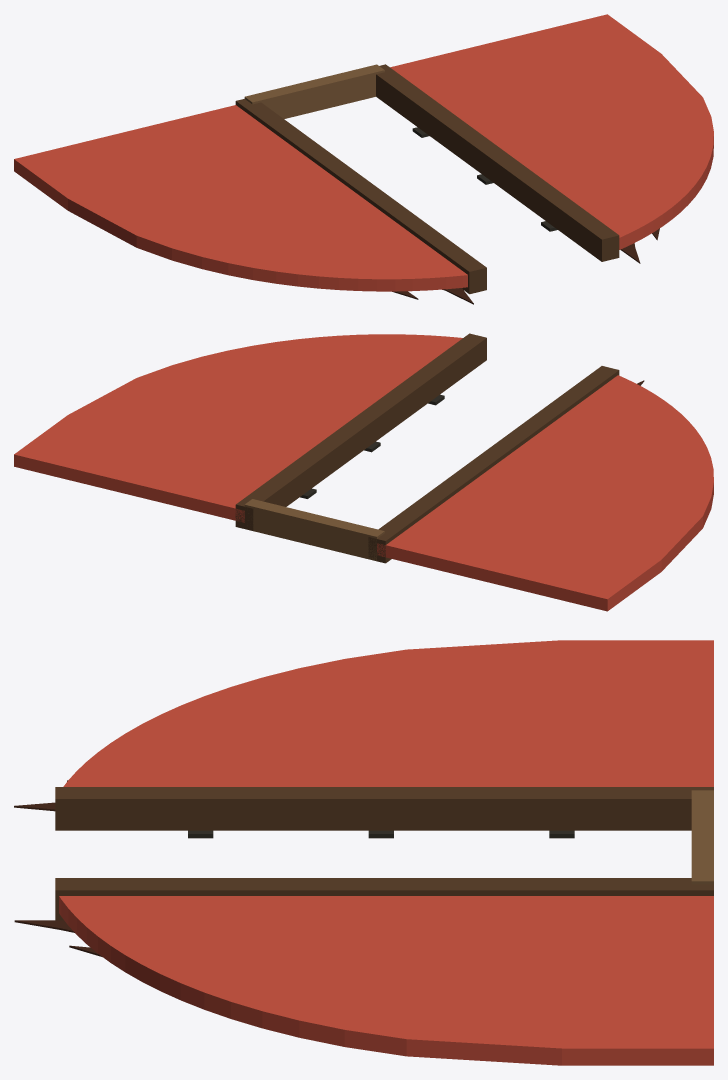
The model's file is sunrise_tavern_sun_doors_only_cm.obj.
3 renders of one model, top to bottom at view 1: azimuth 30°, elevation 25°; view 2: azimuth 150°, elevation 25°; view 3: azimuth 270°, elevation 25°, orthographic. The views are drawn at different scales.
Visible parts, largest first — view 1: Sunrise_Tavern_Sun_Saloon_Doors; view 2: Sunrise_Tavern_Sun_Saloon_Doors; view 3: Sunrise_Tavern_Sun_Saloon_Doors.
Part boxes in pixels (left/top/right/bottom): Sunrise_Tavern_Sun_Saloon_Doors: left=14, top=14, right=713, bottom=304; Sunrise_Tavern_Sun_Saloon_Doors: left=14, top=333, right=713, bottom=611; Sunrise_Tavern_Sun_Saloon_Doors: left=14, top=640, right=713, bottom=1065.
Size of the model in its own units: 305 by 13.5 by 221.
